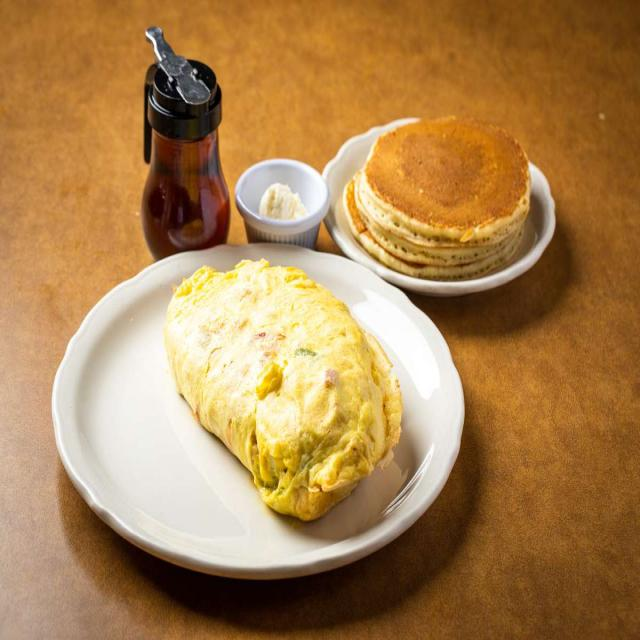Omelette: (161, 250, 411, 524)
Pancakes: (345, 108, 532, 278)
